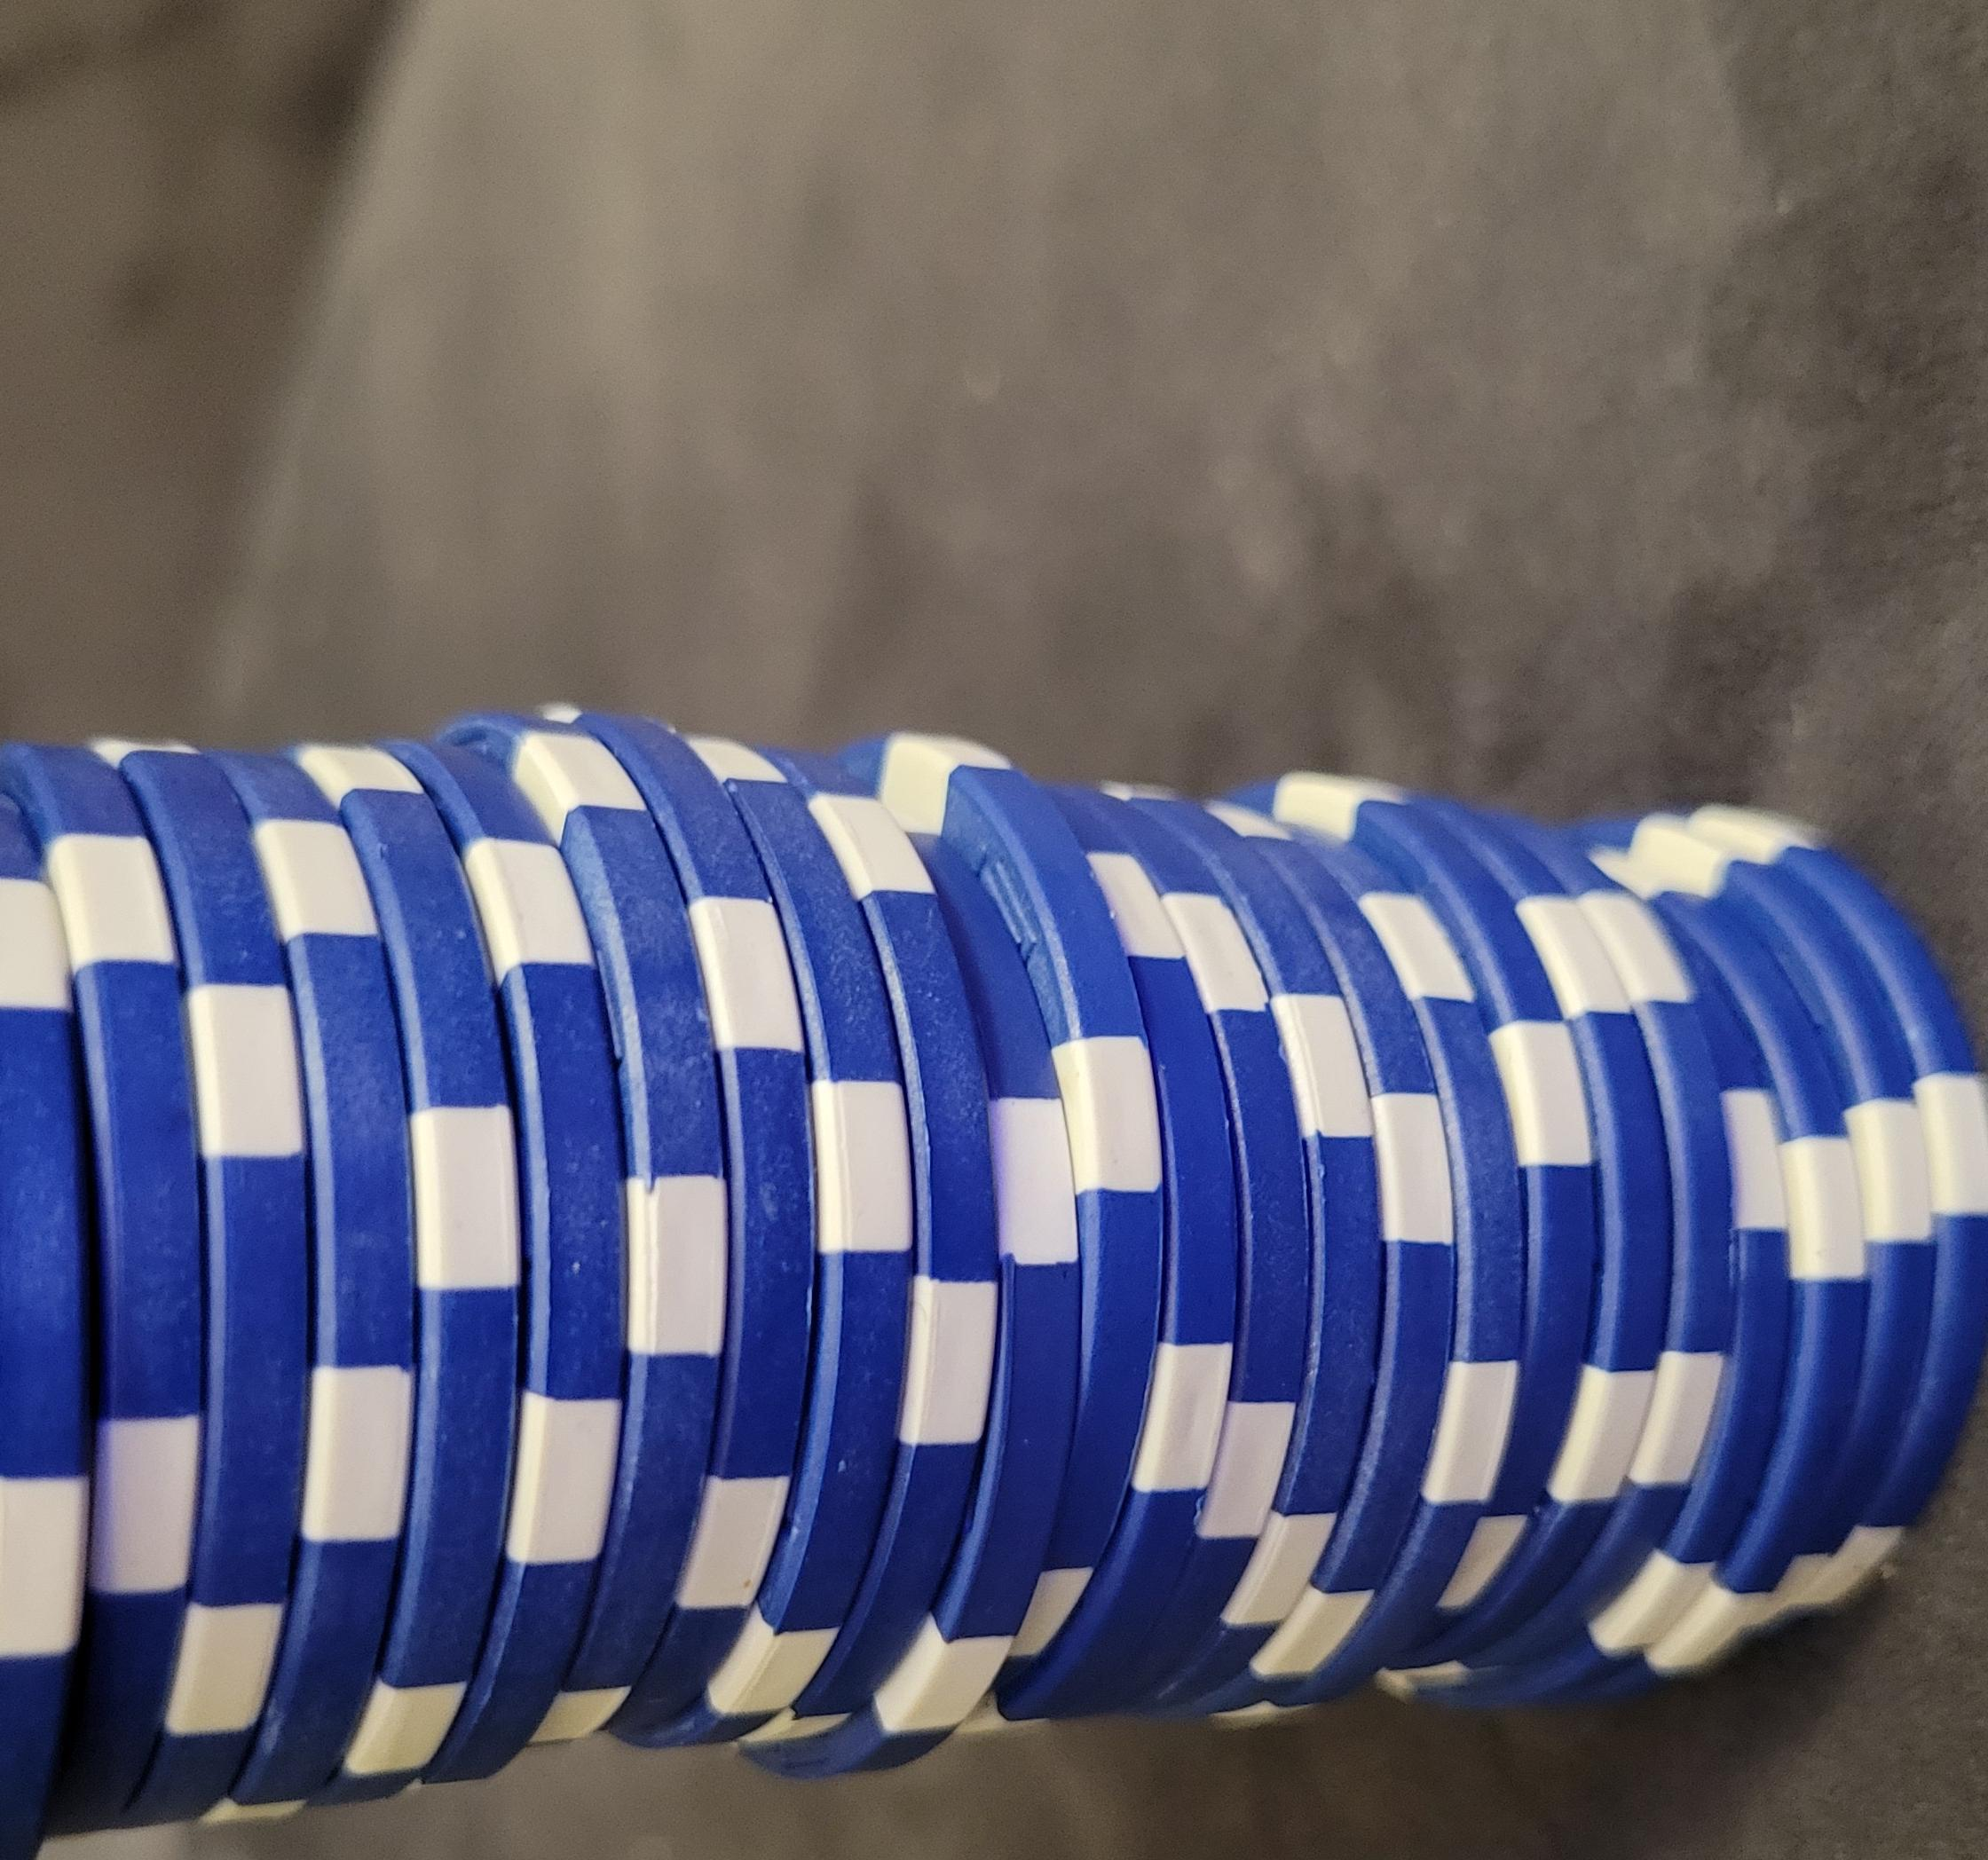Chip: (2, 61, 1329, 1860)
